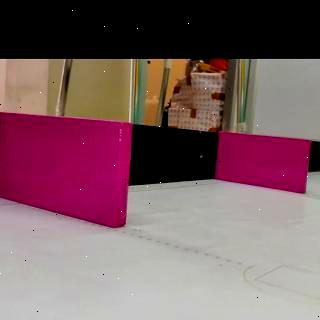xparking: (1, 124, 126, 216), (218, 141, 306, 187)
